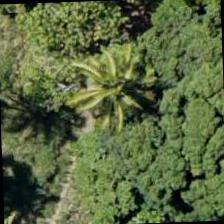Kelapa_Sawit: (60, 31, 152, 124)
